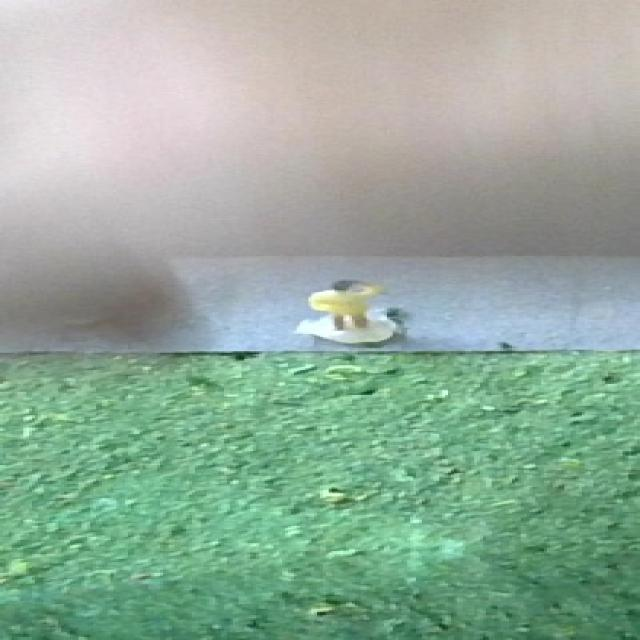person: (297, 272, 398, 347)
